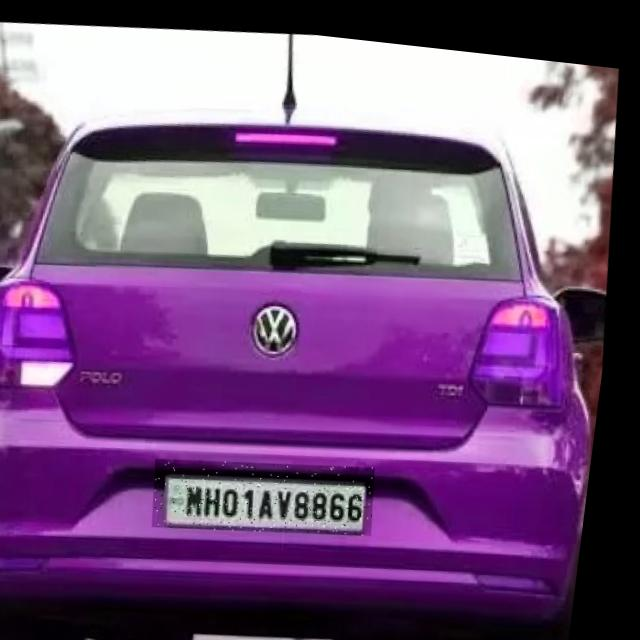license_plate: (160, 438, 390, 541)
